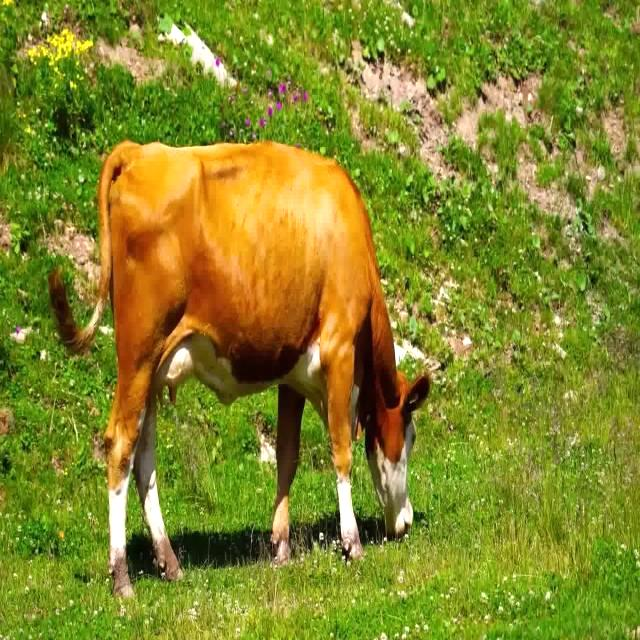COW: (49, 142, 430, 597)
